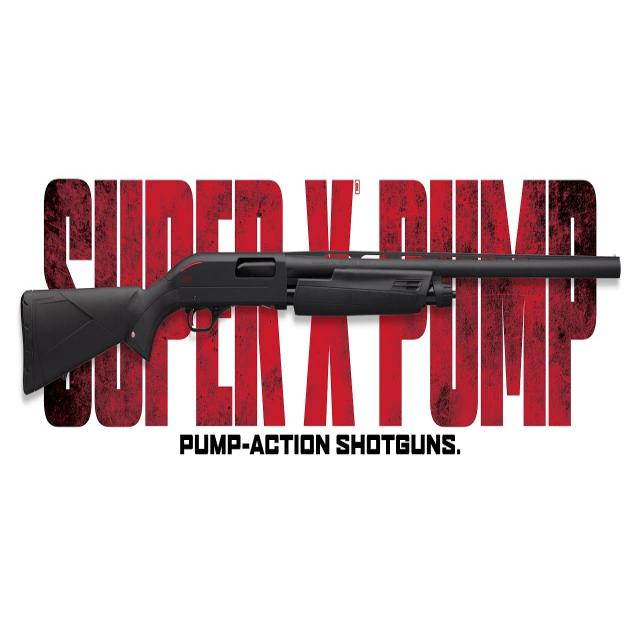ShotGun: (20, 253, 622, 393)
